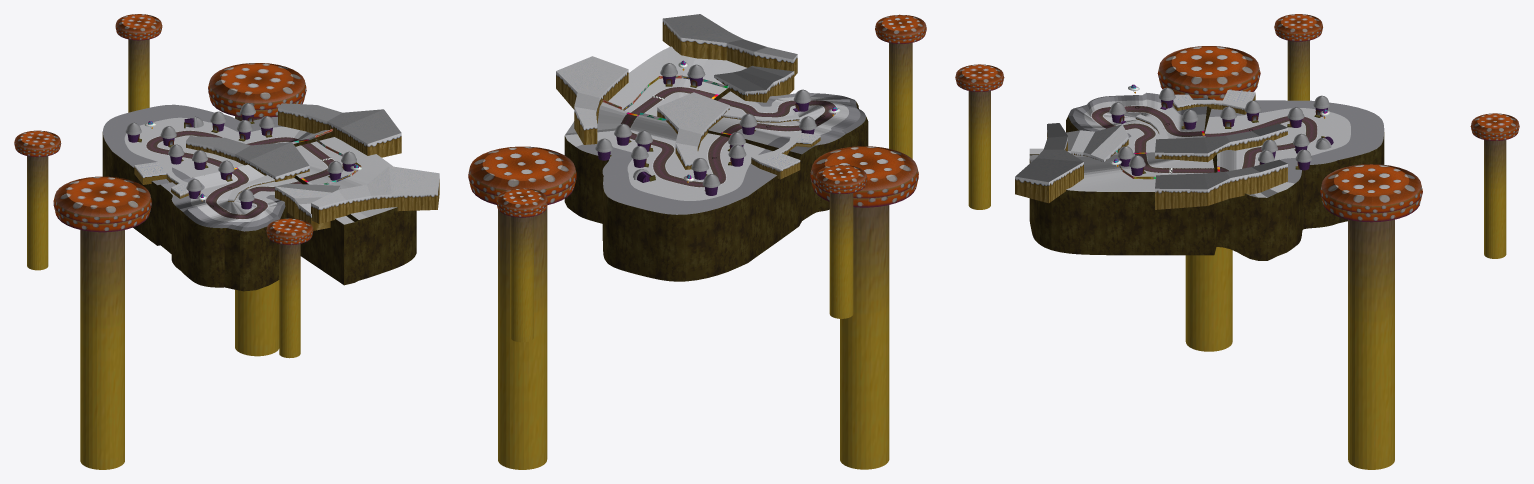
3 renders of one model, left to right at view 1: azimuth 30°, elevation 25°; view 2: azimuth 150°, elevation 25°; view 3: azimuth 270°, elevation 25°, orthographic. The views are drawn at different scales.
Parts seen in each view (by area): view 1: course.024, course.015, course.011, course.020, course.019, course.017, course.008, course.013; view 2: course.024, course.015, course.011, course.020, course.019, course.017, course.008, course.013; view 3: course.024, course.015, course.011, course.020, course.019, course.017, course.008, course.013.
Boxes of the visible parts, bbox=[...] form: course.024: bbox=[14, 14, 313, 469]; course.015: bbox=[102, 131, 416, 291]; course.011: bbox=[124, 103, 396, 224]; course.020: bbox=[135, 103, 439, 214]; course.019: bbox=[134, 108, 439, 230]; course.017: bbox=[102, 104, 285, 231]; course.008: bbox=[146, 130, 334, 219]; course.013: bbox=[127, 114, 354, 209]; course.024: bbox=[468, 14, 926, 469]; course.015: bbox=[564, 88, 868, 281]; course.011: bbox=[565, 46, 848, 200]; course.020: bbox=[556, 14, 819, 169]; course.019: bbox=[556, 19, 820, 179]; course.017: bbox=[576, 92, 865, 214]; course.008: bbox=[620, 87, 836, 187]; course.013: bbox=[597, 75, 814, 195]; course.024: bbox=[955, 14, 1519, 469]; course.015: bbox=[1029, 98, 1384, 260]; course.011: bbox=[1029, 87, 1350, 197]; course.020: bbox=[1015, 90, 1287, 189]; course.019: bbox=[1015, 93, 1287, 209]; course.017: bbox=[1068, 92, 1384, 183]; course.008: bbox=[1091, 105, 1317, 173]; course.013: bbox=[1111, 100, 1333, 175].
Bounding box in the file's own units: 123153 × 107812 × 178613.
17 materials, 17 textured.
